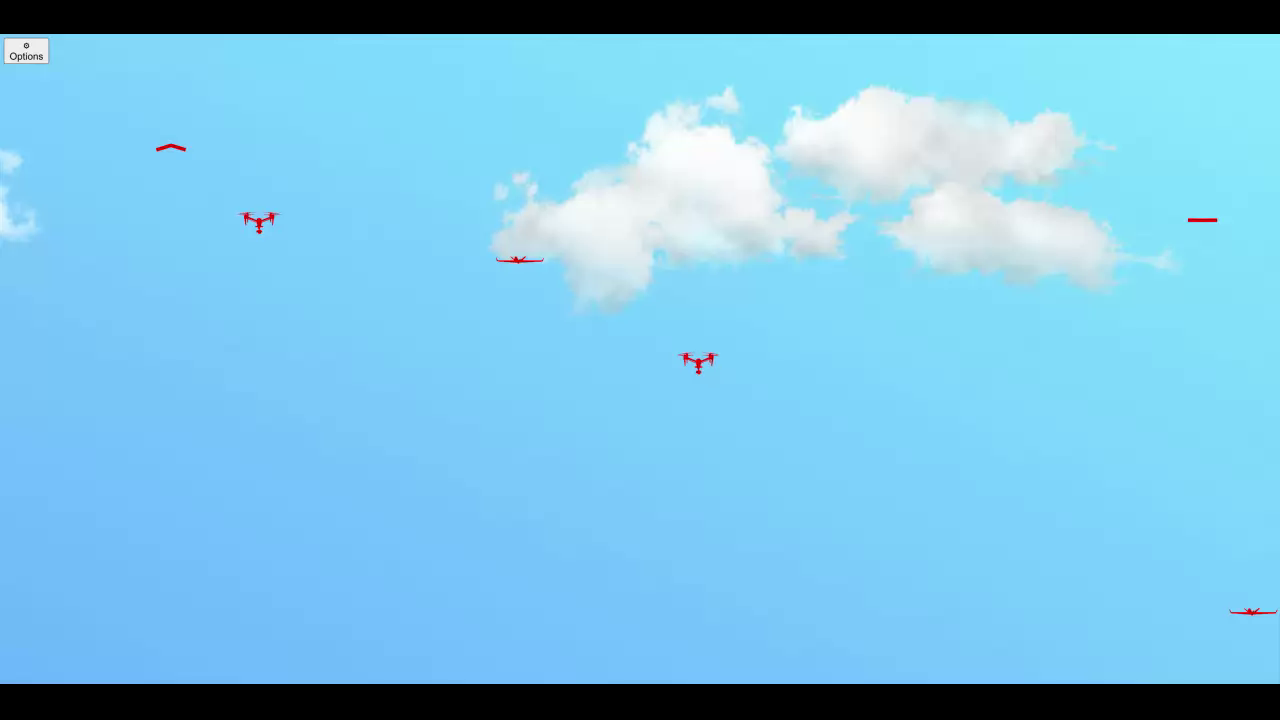Bird: (150, 128, 204, 169), (1172, 196, 1228, 235)
Drone: (484, 243, 579, 281), (1204, 589, 1275, 628)
Quadcopter: (665, 334, 733, 382), (215, 196, 288, 239)
